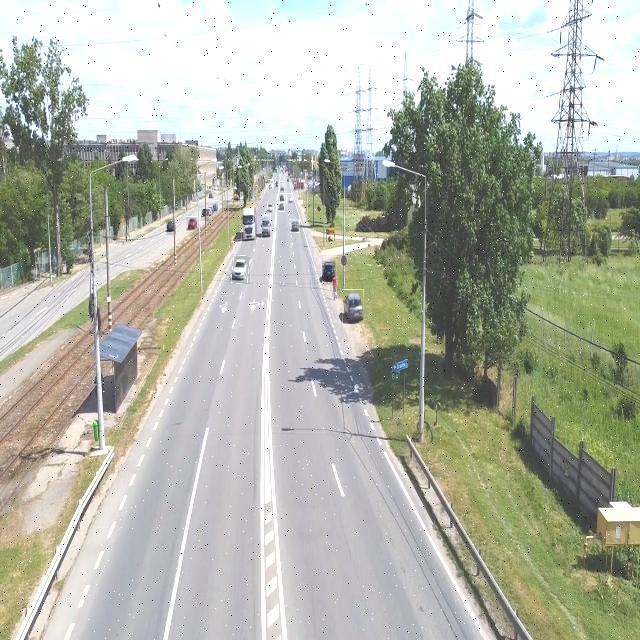Car: (342, 289, 364, 324), (232, 256, 250, 284), (322, 262, 336, 286), (261, 213, 271, 239), (186, 216, 198, 231), (166, 219, 176, 235), (290, 219, 300, 233), (201, 210, 209, 222), (213, 200, 219, 213), (286, 193, 293, 204), (279, 201, 285, 212), (279, 193, 285, 204), (268, 179, 274, 190), (268, 202, 274, 212), (279, 181, 284, 192)
Truck: (241, 204, 257, 242)
